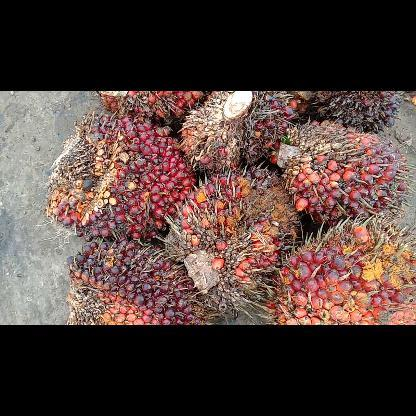TBS masak: (42, 109, 196, 243), (166, 170, 306, 302), (266, 224, 416, 322), (274, 119, 414, 221), (69, 238, 215, 324), (180, 91, 296, 169), (99, 90, 213, 124), (322, 92, 404, 134)
